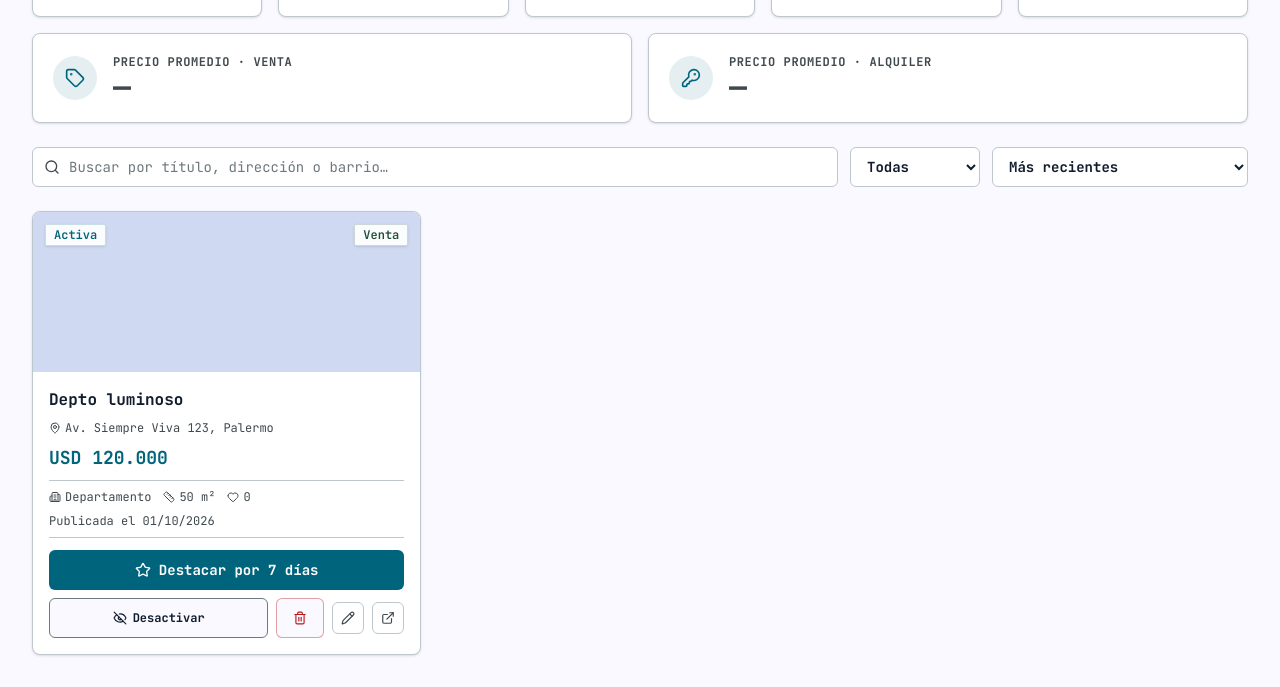
Test: Reserva de destacado cuando no hay lugar › cuando el tope es el de la cuenta lo dice
(page scrolled)
What coordinates should you click on to do the following:
click the button "Destacar por 7 días"
I would click on:
 (227, 570)
Its box is [49,550,404,590].
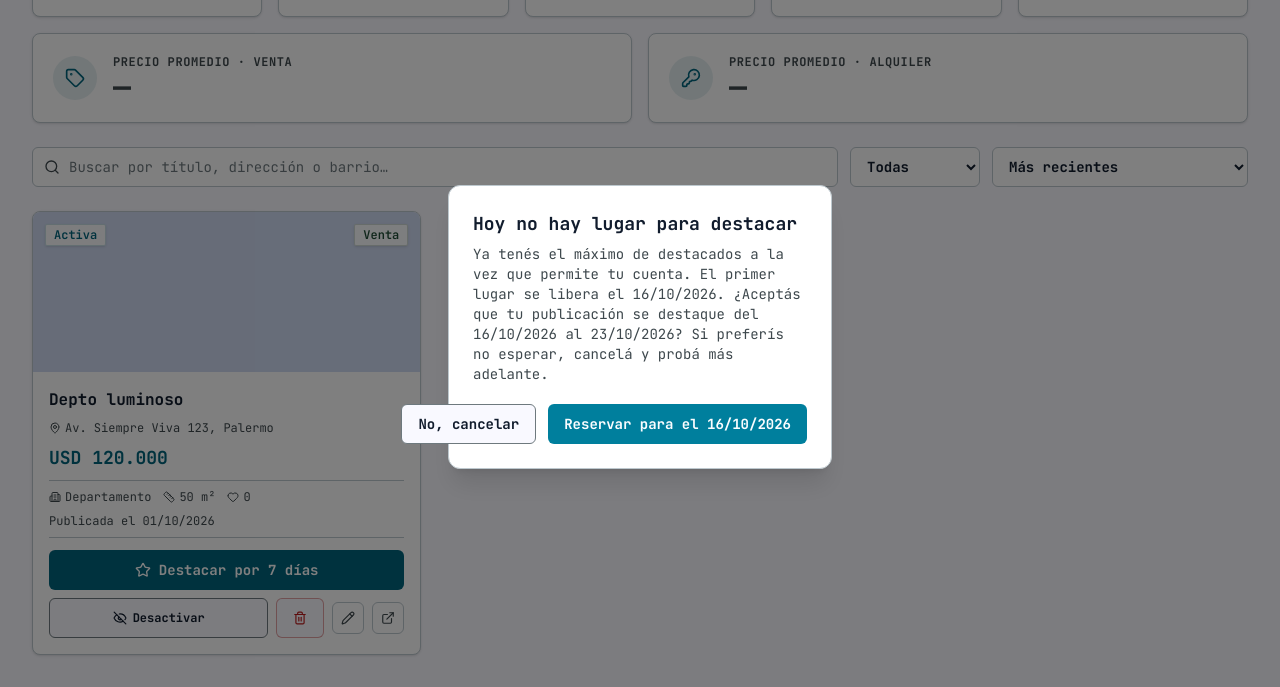
Result: the text "máximo de destacados a la vez que permite tu cuenta" is shown at [473,245,801,383]
